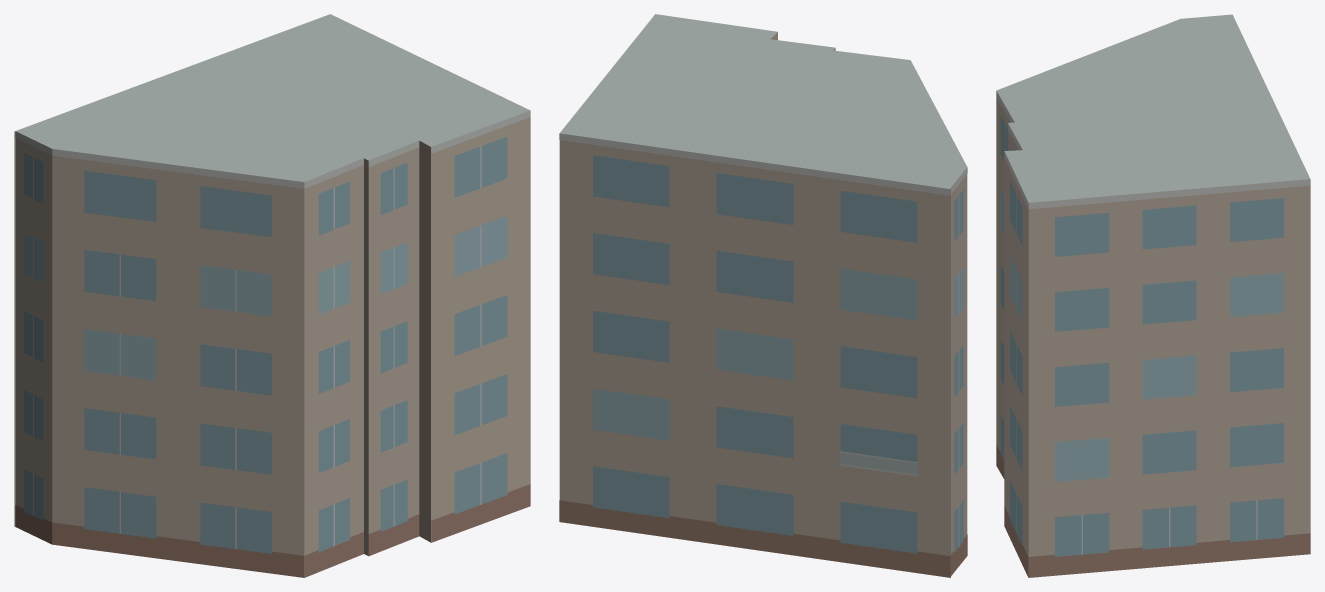
Rendered from survey-upis-32612866.glb.
3 renders of one model, left to right at view 1: azimuth 30°, elevation 25°; view 2: azimuth 150°, elevation 25°; view 3: azimuth 270°, elevation 25°, orthographic. The views are drawn at different scales.
Parts seen in each view (by area): view 1: survey-upis-32612866.tmp; view 2: survey-upis-32612866.tmp; view 3: survey-upis-32612866.tmp.
Boxes of the visible parts, box(x1,y1,x2,y2) form: survey-upis-32612866.tmp: box(14, 14, 530, 577); survey-upis-32612866.tmp: box(559, 14, 967, 577); survey-upis-32612866.tmp: box(996, 14, 1310, 577).
Bounding box in the file's own units: 15.45 × 14.3 × 10.87.
